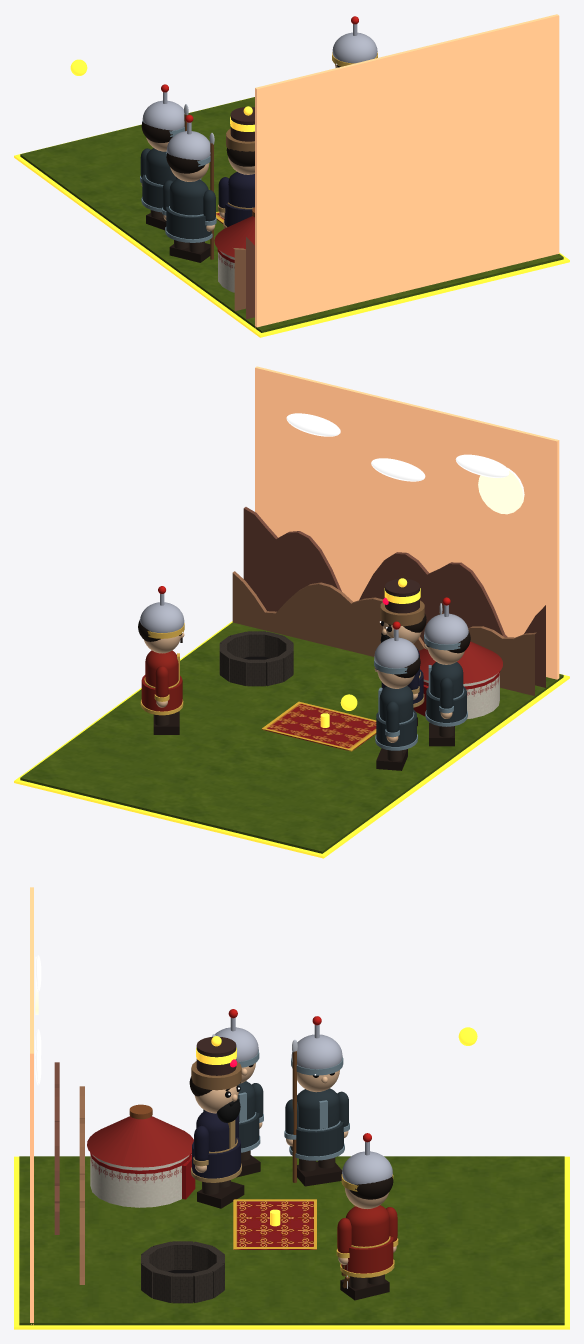
3 views of the same model, one above another, from view 1: azimuth 30°, elevation 25°; view 2: azimuth 150°, elevation 25°; view 3: azimuth 270°, elevation 25° (orthographic). The views are drawn at different scales.
Visible parts, largest first — view 1: Аспан, Жер, Жиек, Helmet (×3), Torso (×3), Skirt (×3), Күмбез, Hair (×2), Жота 2, Жота, Crown, Кереге; view 2: Аспан, Жер, Жота, Жота 2, Жиек, Helmet (×3), Кілем, Torso (×3), Бұлт (×3), Skirt (×3), Күмбез, Күн (+3 smaller); view 3: Жер, Жиек, Күмбез, Кілем, Torso (×3), Skirt (×3), Helmet (×3), Кереге, Қабырға (×3), Аспан, Face (×2), Жота 2 (+5 smaller).
Part boxes in pixels (box(x1,y1,x2,y2)): Аспан: box(255, 14, 559, 328); Жер: box(20, 97, 563, 332); Жиек: box(14, 98, 569, 337); Helmet (×3): box(142, 32, 377, 160); Torso (×3): box(146, 148, 254, 215); Skirt (×3): box(142, 174, 252, 239); Күмбез: box(214, 216, 254, 257); Hair (×2): box(141, 122, 204, 173); Жота 2: box(233, 248, 245, 311); Жота: box(246, 237, 254, 319); Crown: box(230, 107, 254, 141); Кереге: box(218, 250, 234, 292); Аспан: box(255, 366, 559, 679); Жер: box(20, 622, 563, 853); Жота: box(243, 507, 545, 687); Жота 2: box(232, 571, 536, 695); Жиек: box(14, 621, 569, 858); Helmet (×3): box(140, 602, 468, 668); Кілем: box(261, 701, 376, 751); Torso (×3): box(145, 650, 463, 722); Бұлт (×3): box(286, 413, 509, 481); Skirt (×3): box(141, 675, 466, 746); Күмбез: box(418, 641, 502, 683); Күн: box(478, 467, 524, 514); Жер: box(19, 1156, 564, 1325); Жиек: box(14, 1156, 569, 1329); Күмбез: box(87, 1116, 193, 1167); Кілем: box(233, 1199, 316, 1249); Torso (×3): box(196, 1088, 389, 1246); Skirt (×3): box(192, 1122, 393, 1273); Helmet (×3): box(215, 1027, 392, 1184); Кереге: box(90, 1154, 189, 1207); Қабырға (×3): box(153, 1269, 212, 1303); Аспан: box(30, 887, 33, 1324); Face (×2): box(194, 1070, 339, 1113); Жота 2: box(79, 1086, 84, 1284).
Size of the model in its own units: 0.9635 by 0.763 by 1.33.
Materials: 39 (4 with a texture image).
